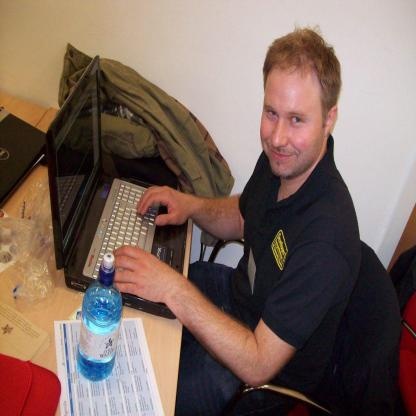board: (44, 52, 188, 320), (77, 254, 122, 379), (0, 108, 46, 210)
